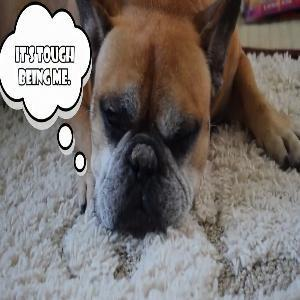keratosis: (125, 141, 161, 173)
